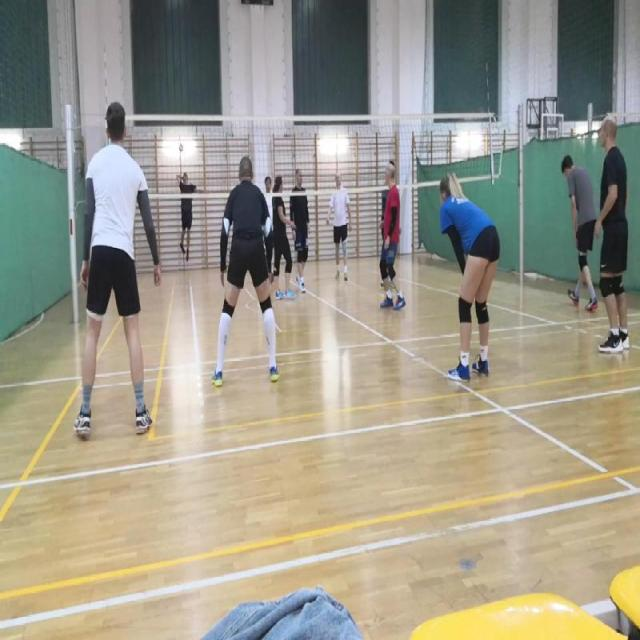volleyball: (179, 141, 183, 150)
